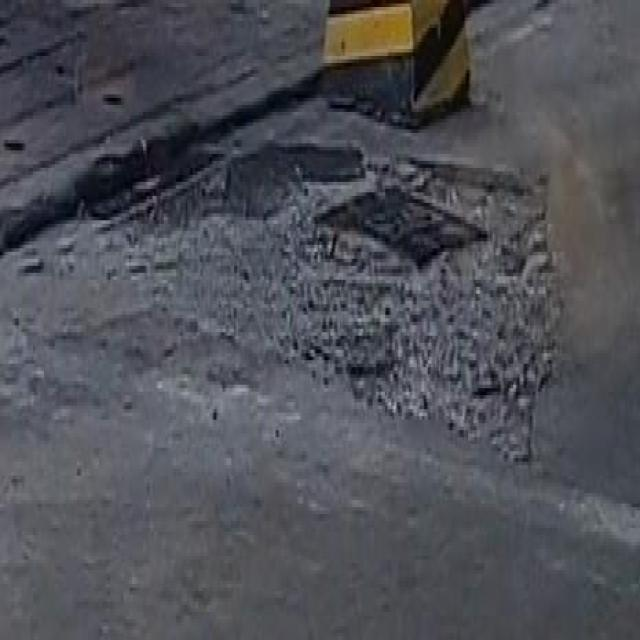Pothole: (23, 136, 564, 464)
